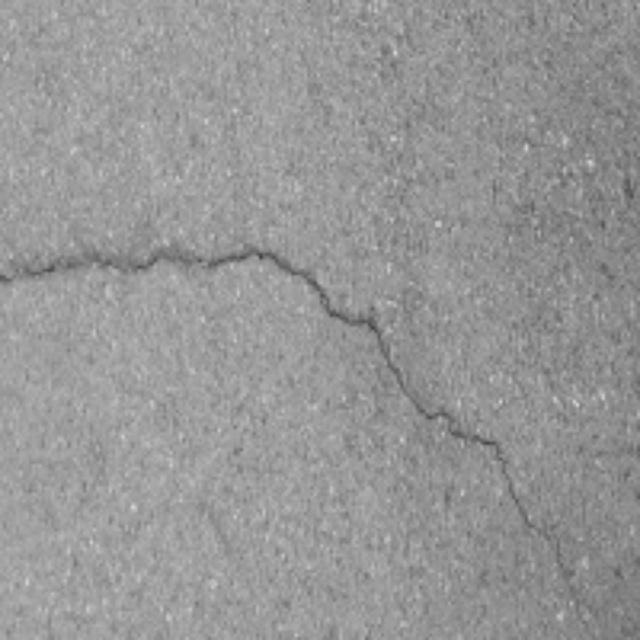Crack: (6, 132, 628, 615)
